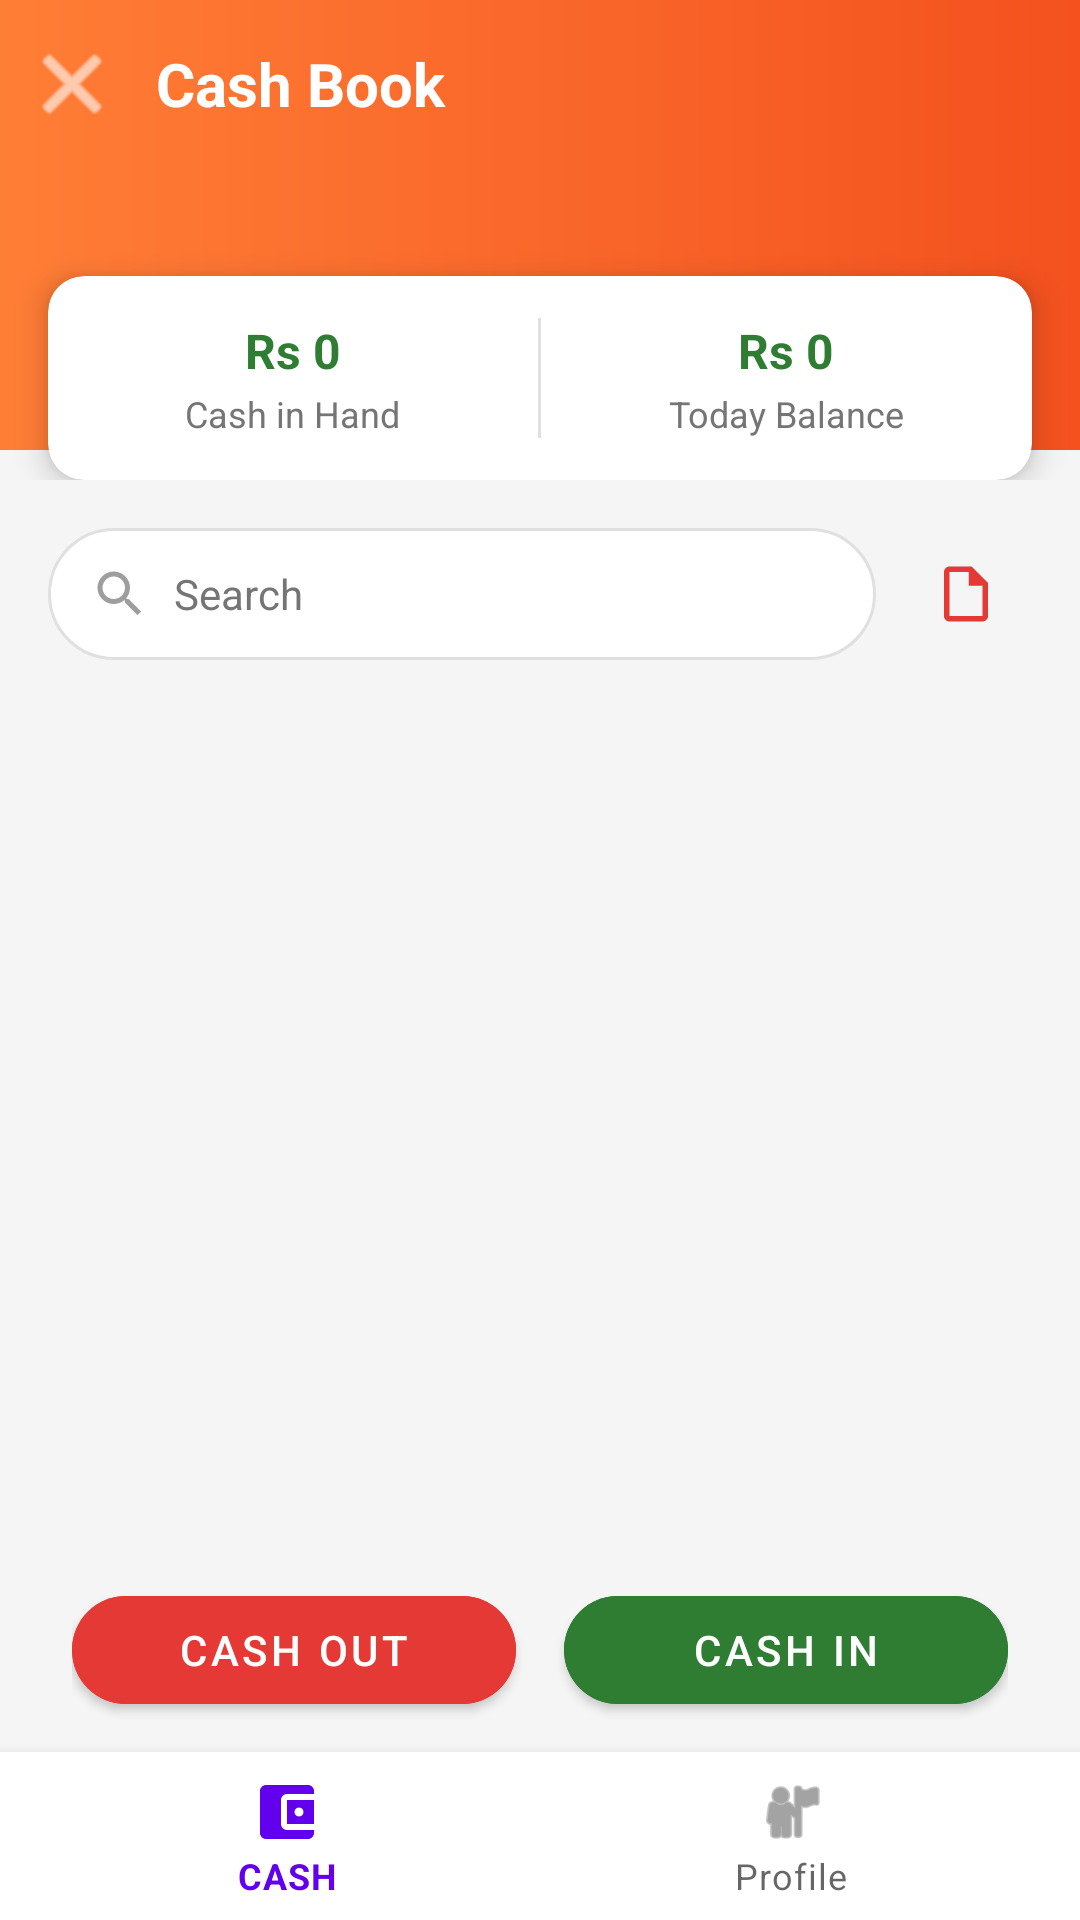

Screen size 1080px×1920px. Icon name, then its box in pixels as bbox=(x1, y1, x2, y2):
close clear cancel: bbox=(42, 54, 102, 114)
